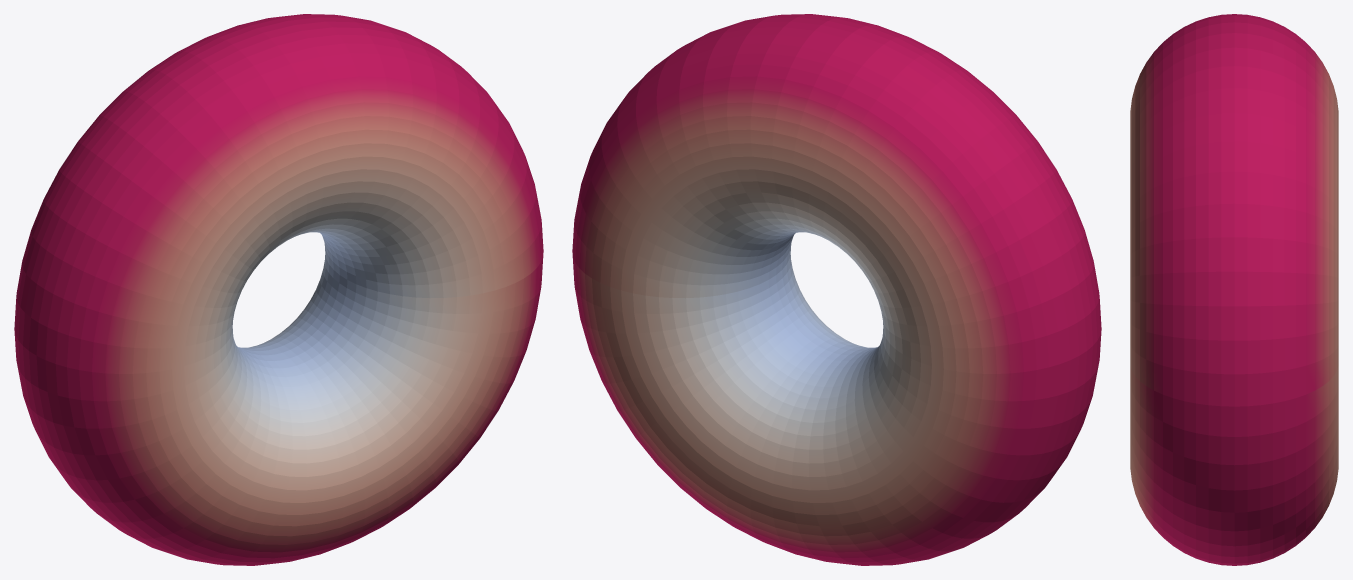
The picture shows the model from 3 angles, left to right: view 1: azimuth 30°, elevation 25°; view 2: azimuth 150°, elevation 25°; view 3: azimuth 270°, elevation 25°; orthographic projection. The views are drawn at different scales.
Parts seen in each view (by area): view 1: world; view 2: world; view 3: world.
Part boxes in pixels (x1,y1,x2,y2): world: [14, 14, 543, 565]; world: [572, 14, 1101, 565]; world: [1130, 14, 1338, 565].
Bounding box in the file's own units: 25.73 × 25.68 × 9.71.
